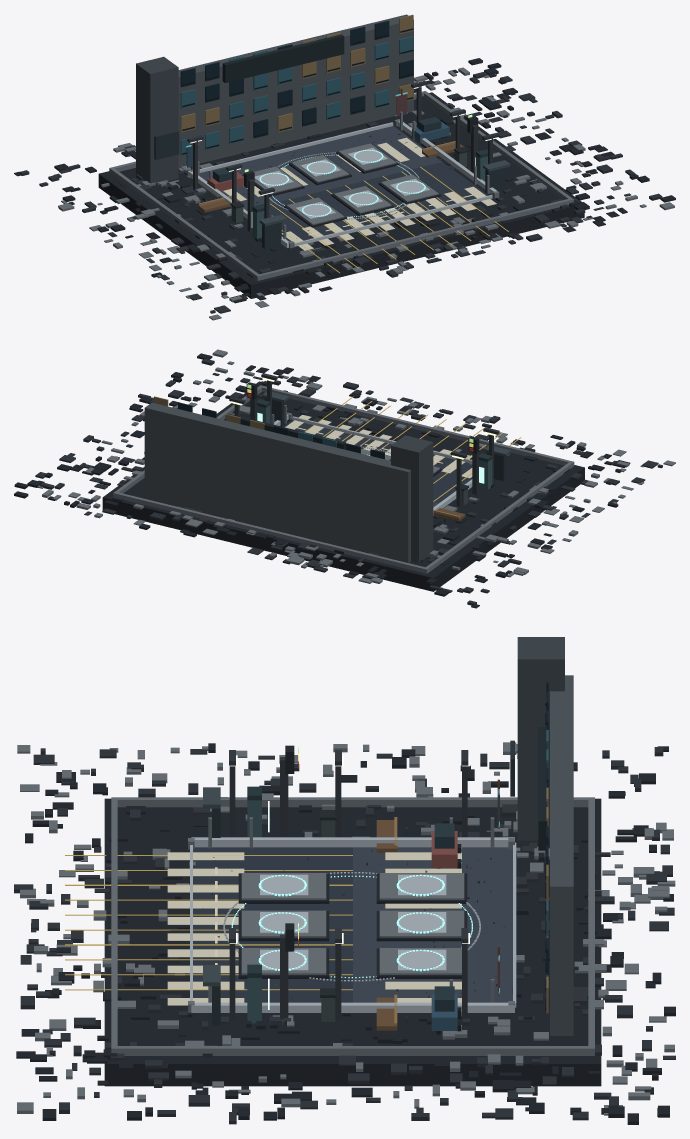
Rendered from preview-metropolis.glb.
3 renders of one model, top to bottom at view 1: azimuth 30°, elevation 25°; view 2: azimuth 150°, elevation 25°; view 3: azimuth 270°, elevation 25°, orthographic. The views are drawn at different scales.
Visible parts, largest first — view 1: Miniature_Plinth, Miniature_Outer_Rubble, Miniature_City_Facade, Miniature_City_Windows, Miniature_Six_Grounded_Foundations (×2), Miniature_Corner_Building, Miniature_Enemy_Floor, Miniature_Frame, Miniature_Friendly_Floor, Miniature_Arena_Curb, Miniature_Road_Markings, Miniature_Rooftop_Sign (+8 smaller); view 2: Miniature_City_Facade, Miniature_Outer_Rubble, Miniature_Plinth, Miniature_Frame, Miniature_Corner_Building, Miniature_Friendly_Floor, Miniature_Road_Markings, Miniature_City_Windows, Miniature_Street_Lamps, Miniature_Bus_Stop, Miniature_Arena_Curb, Miniature_Traffic_Lights (+3 smaller); view 3: Miniature_Plinth, Miniature_Outer_Rubble, Miniature_Six_Grounded_Foundations (×2), Miniature_Enemy_Floor, Miniature_Frame, Miniature_Friendly_Floor, Miniature_City_Facade, Miniature_Road_Markings, Miniature_Corner_Building, Miniature_Arena_Curb, Miniature_Street_Lamps, Miniature_Lane_Lines (+8 smaller).
Part boxes in pixels (x1=…): Miniature_Plinth: x1=98, y1=92, x2=584, y2=298; Miniature_Outer_Rubble: x1=14, y1=58, x2=675, y2=320; Miniature_City_Facade: x1=178, y1=14, x2=413, y2=168; Miniature_City_Windows: x1=180, y1=14, x2=413, y2=155; Miniature_Six_Grounded_Foundations (×2): x1=242, y1=143, x2=441, y2=227; Miniature_Corner_Building: x1=136, y1=56, x2=179, y2=183; Miniature_Enemy_Floor: x1=199, y1=126, x2=442, y2=209; Miniature_Frame: x1=109, y1=91, x2=573, y2=280; Miniature_Friendly_Floor: x1=246, y1=162, x2=491, y2=248; Miniature_Arena_Curb: x1=188, y1=121, x2=496, y2=247; Miniature_Road_Markings: x1=223, y1=137, x2=496, y2=250; Miniature_Rooftop_Sign: x1=222, y1=34, x2=344, y2=82; Miniature_City_Facade: x1=144, y1=402, x2=410, y2=562; Miniature_Outer_Rubble: x1=14, y1=349, x2=675, y2=608; Miniature_Plinth: x1=102, y1=392, x2=584, y2=591; Miniature_Frame: x1=113, y1=385, x2=574, y2=573; Miniature_Corner_Building: x1=391, y1=435, x2=433, y2=562; Miniature_Friendly_Floor: x1=283, y1=420, x2=472, y2=503; Miniature_Road_Markings: x1=285, y1=414, x2=472, y2=478; Miniature_City_Windows: x1=153, y1=396, x2=384, y2=459; Miniature_Street_Lamps: x1=229, y1=373, x2=499, y2=506; Miniature_Bus_Stop: x1=262, y1=391, x2=511, y2=481; Miniature_Arena_Curb: x1=274, y1=414, x2=472, y2=514; Miniature_Traffic_Lights: x1=246, y1=382, x2=479, y2=494; Miniature_Plinth: x1=104, y1=798, x2=601, y2=1086; Miniature_Outer_Rubble: x1=14, y1=742, x2=675, y2=1124; Miniature_Six_Grounded_Foundations (×2): x1=238, y1=873, x2=467, y2=978; Miniature_Enemy_Floor: x1=353, y1=847, x2=512, y2=1002; Miniature_Frame: x1=111, y1=797, x2=594, y2=1055; Miniature_Friendly_Floor: x1=193, y1=847, x2=352, y2=1002; Miniature_City_Facade: x1=550, y1=675, x2=573, y2=1035; Miniature_Road_Markings: x1=167, y1=852, x2=461, y2=1005; Miniature_Corner_Building: x1=510, y1=637, x2=564, y2=840; Miniature_Arena_Curb: x1=190, y1=837, x2=516, y2=1012; Miniature_Street_Lamps: x1=229, y1=750, x2=468, y2=1020; Miniature_Lane_Lines: x1=65, y1=855, x2=352, y2=990.
Bounding box in the file's own units: 13.72 × 3.46 × 10.13.
